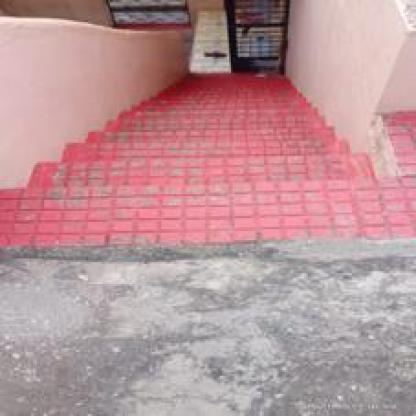stair_down: (38, 108, 352, 220)
